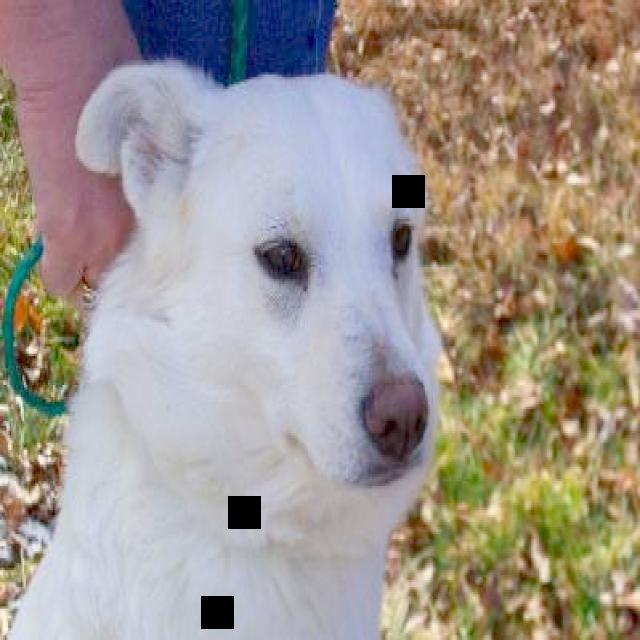adult_dog: (11, 61, 451, 640)
